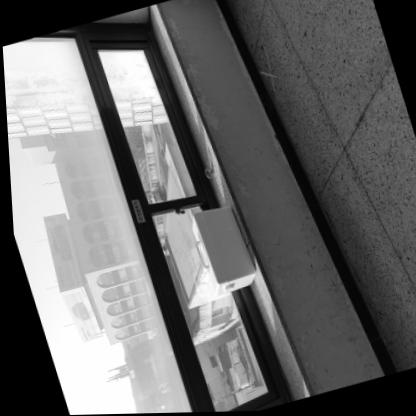DDL: (183, 202, 256, 297)
